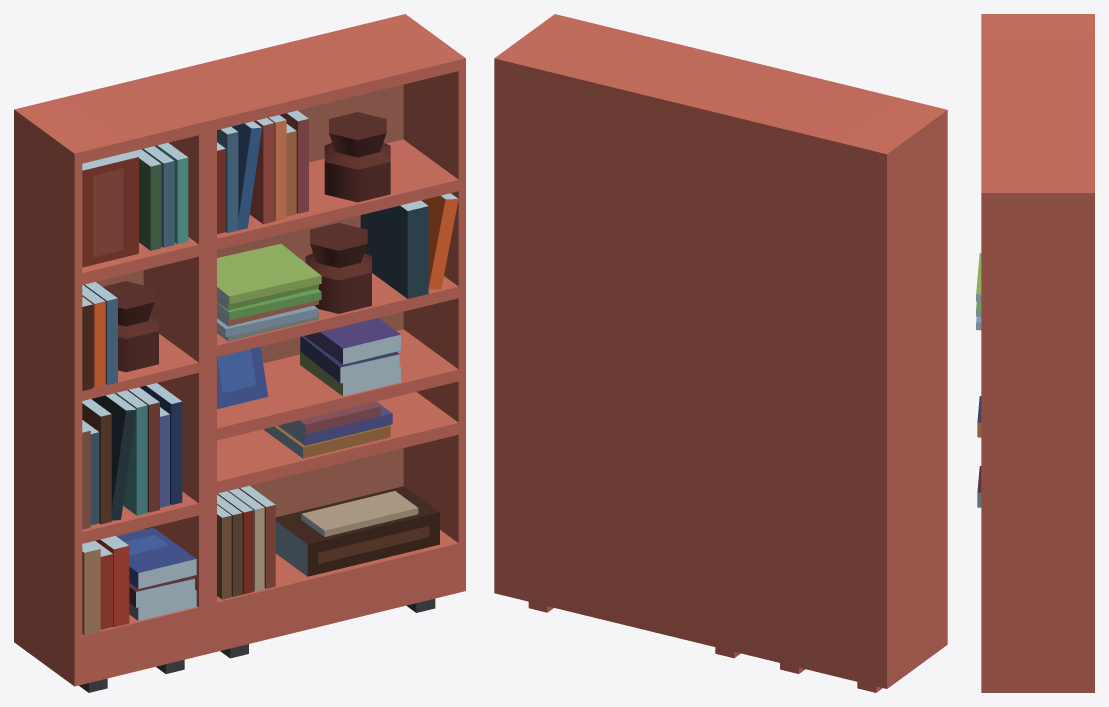
File: SM_GameArea_Bookshelf_02.fbx
3 renders of one model, left to right at view 1: azimuth 30°, elevation 25°; view 2: azimuth 150°, elevation 25°; view 3: azimuth 270°, elevation 25°, orthographic. The views are drawn at different scales.
Visible parts, largest first — view 1: SM_GameArea_Bookshelf_02; view 2: SM_GameArea_Bookshelf_02; view 3: SM_GameArea_Bookshelf_02.
Boxes of the visible parts, x1,y1,x2,y2 form: SM_GameArea_Bookshelf_02: (14, 14, 465, 692); SM_GameArea_Bookshelf_02: (494, 14, 947, 692); SM_GameArea_Bookshelf_02: (976, 14, 1094, 692).
Bounding box in the file's own units: 9.94 × 13.22 × 2.78.
1 material, 1 textured.
